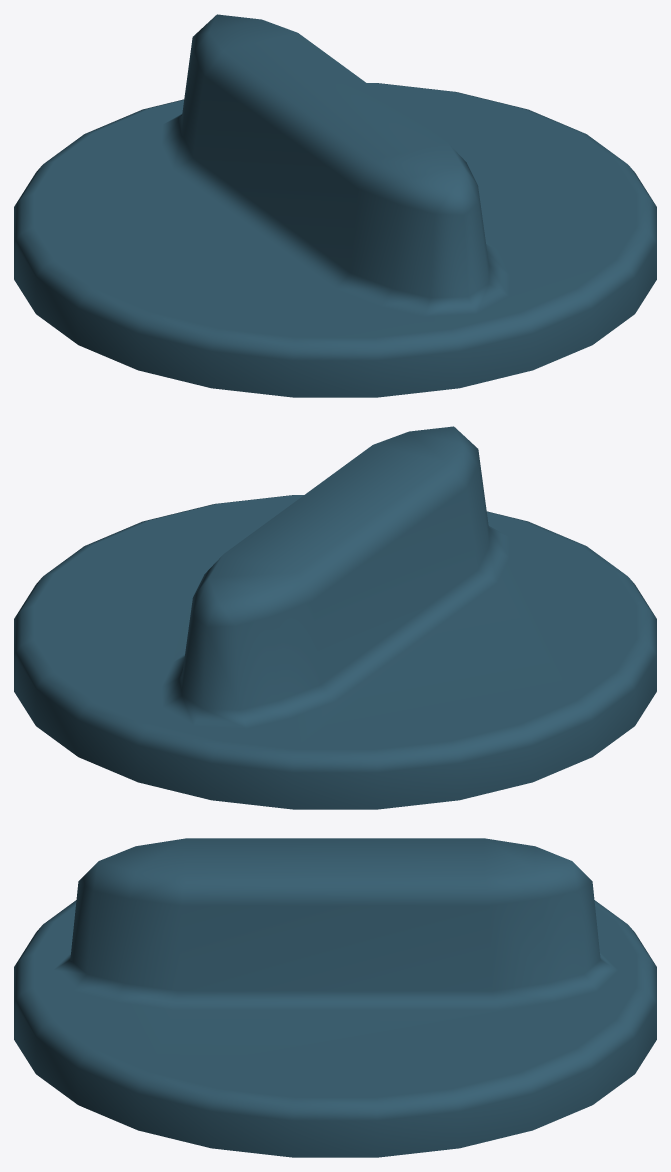
Rendered from SM_MicStove_01_Button_02.fbx.
3 renders of one model, top to bottom at view 1: azimuth 30°, elevation 25°; view 2: azimuth 150°, elevation 25°; view 3: azimuth 270°, elevation 25°, orthographic.
Parts seen in each view (by area): view 1: SM_MicStove_01_Button_02; view 2: SM_MicStove_01_Button_02; view 3: SM_MicStove_01_Button_02.
Boxes of the visible parts, x1,y1,x2,y2 form: SM_MicStove_01_Button_02: (14, 14, 656, 397); SM_MicStove_01_Button_02: (14, 426, 656, 809); SM_MicStove_01_Button_02: (14, 838, 656, 1157).
Bounding box in the file's own units: 6.78 × 1.92 × 6.78.
